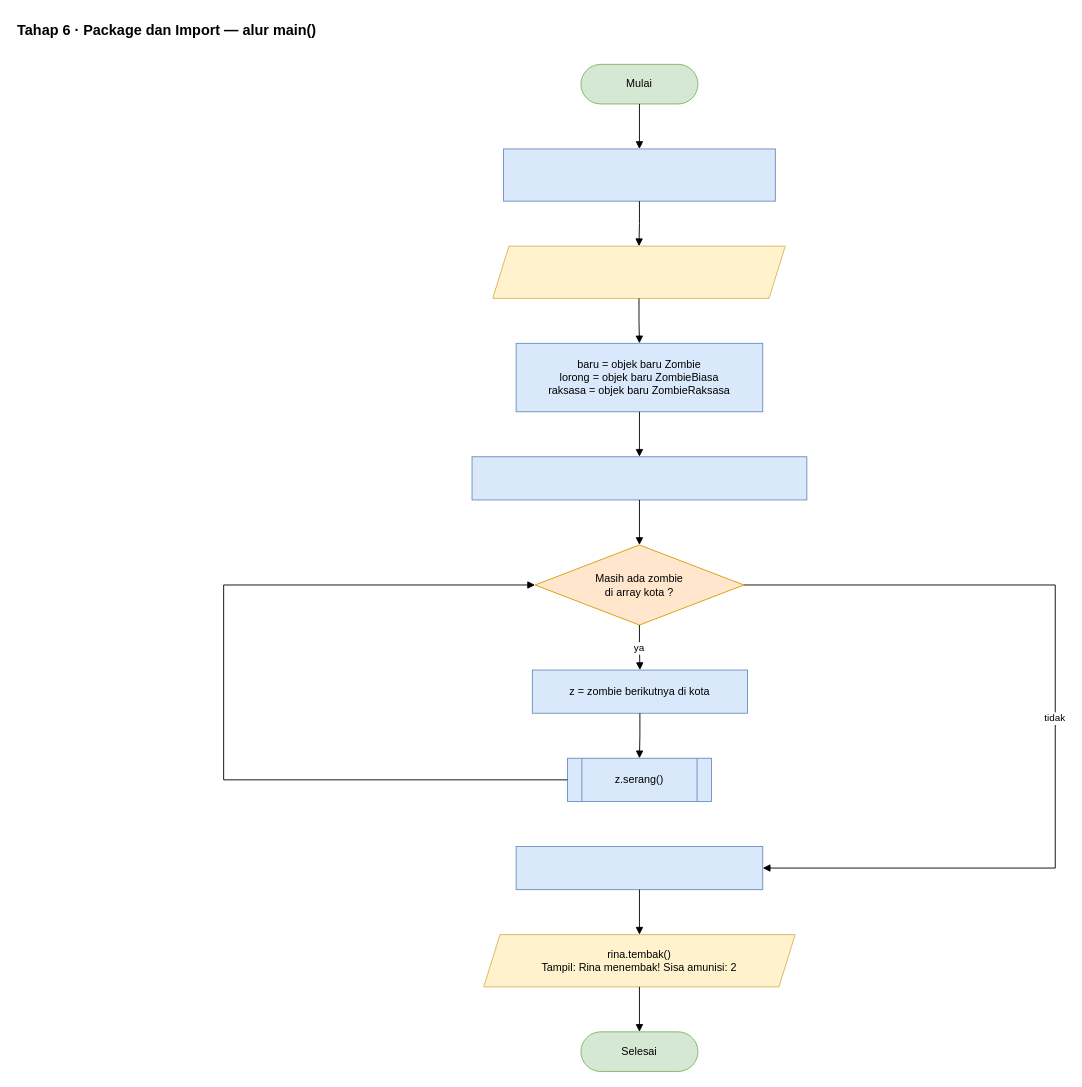
Image size: 1082x1087. Some labels were removed from this diagram. The centre of each missing label's shape, as x and y in pixels:
import paketMakhluk.* (class dari paket dipakai di file ini): [639,174]
kota = array Zombie[ ] { baru, lorong, raksasa }: [639,478]
rina = objek baru Survivor("Rina"): [639,868]
Tampil: "Selamat datang di Survival Zombie": [638,271]
